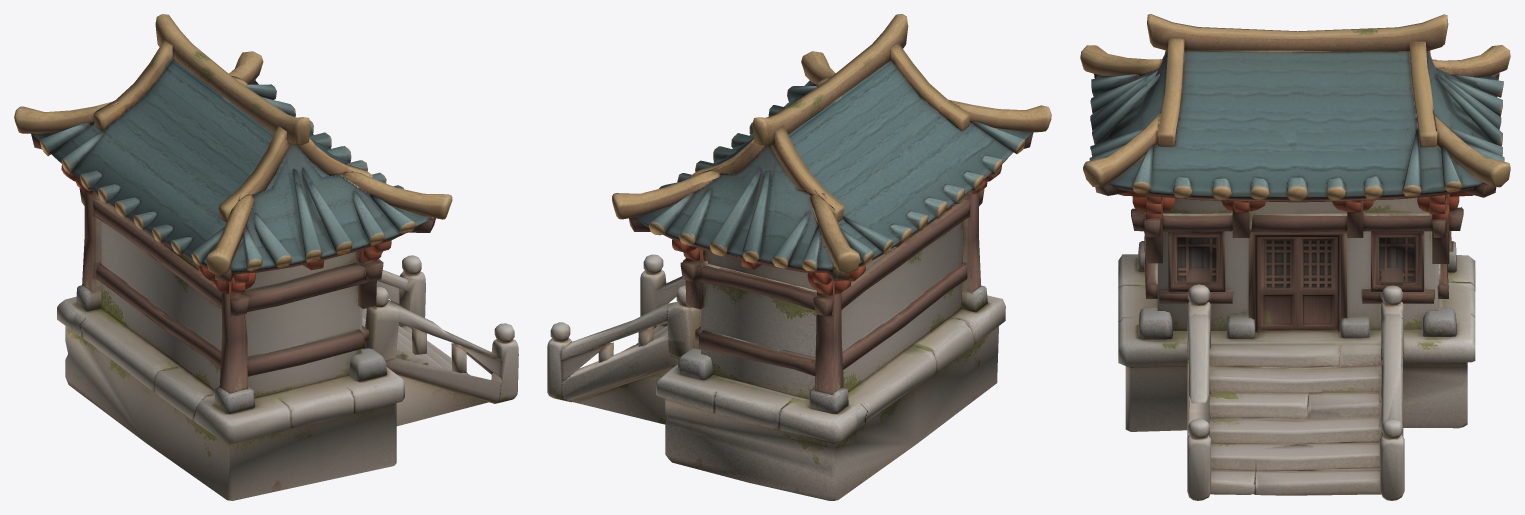
Rendered from tripo_convert_dabf4fdf-9e52-4695-ad96-a0409841049c.fbx.
3 views of the same model, side by side, from view 1: azimuth 30°, elevation 25°; view 2: azimuth 150°, elevation 25°; view 3: azimuth 270°, elevation 25° (orthographic). The views are drawn at different scales.
Visible parts, largest first — view 1: tripo_node_dabf4fdf; view 2: tripo_node_dabf4fdf; view 3: tripo_node_dabf4fdf.
Boxes of the visible parts, left/top/right/bottom form: tripo_node_dabf4fdf: left=14, top=14, right=518, bottom=500; tripo_node_dabf4fdf: left=547, top=14, right=1051, bottom=500; tripo_node_dabf4fdf: left=1080, top=14, right=1510, bottom=500.
Size of the model in its own units: 0.998 by 0.959 by 0.998.
Materials: 1 (1 with a texture image).
